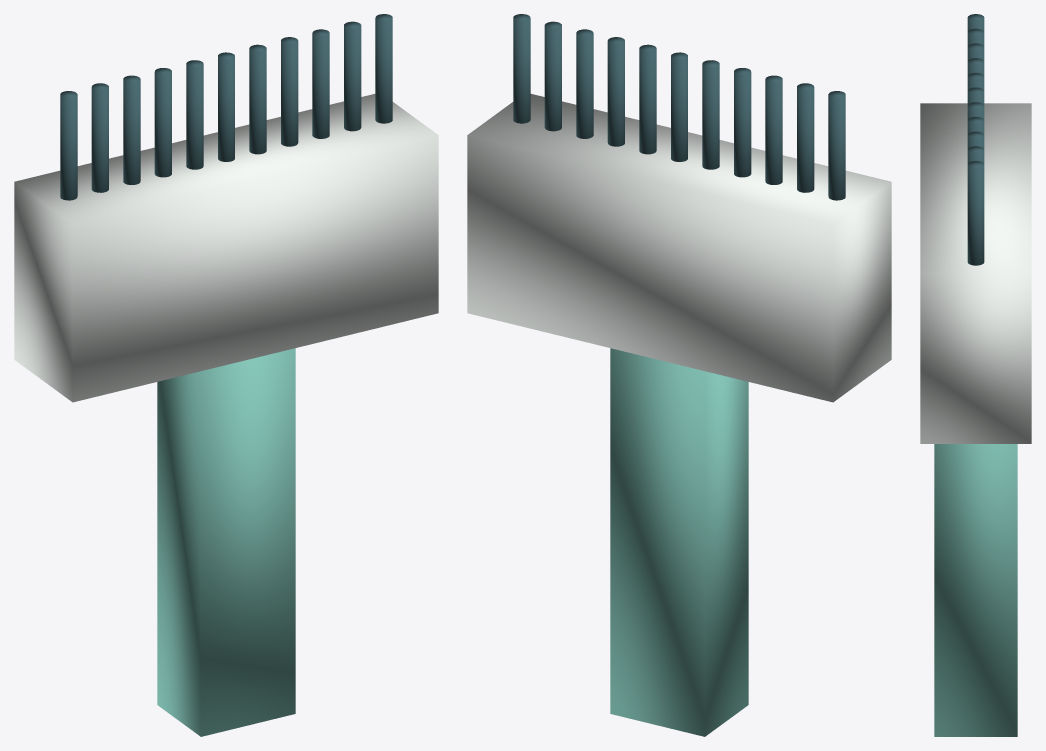
File: tool-brush.glb
3 views of the same model, side by side, from view 1: azimuth 30°, elevation 25°; view 2: azimuth 150°, elevation 25°; view 3: azimuth 270°, elevation 25° (orthographic). The views are drawn at different scales.
Parts seen in each view (by area): view 1: head.001, handle.001, tooth or bristle.017, tooth or bristle.011, tooth or bristle.018, tooth or bristle.020, tooth or bristle.012, tooth or bristle.013, tooth or bristle.021, tooth or bristle.015, tooth or bristle.019, tooth or bristle.014 (+1 smaller); view 2: head.001, handle.001, tooth or bristle.017, tooth or bristle.011, tooth or bristle.018, tooth or bristle.020, tooth or bristle.012, tooth or bristle.013, tooth or bristle.021, tooth or bristle.015, tooth or bristle.019, tooth or bristle.014 (+1 smaller); view 3: head.001, handle.001, tooth or bristle.021, tooth or bristle.012, tooth or bristle.013, tooth or bristle.016, tooth or bristle.019, tooth or bristle.015, tooth or bristle.017, tooth or bristle.014, tooth or bristle.018, tooth or bristle.020 (+1 smaller).
Boxes of the visible parts, x1,y1,x2,y2 form: head.001: (14, 94, 438, 402); handle.001: (157, 348, 295, 736); tooth or bristle.017: (249, 44, 266, 154); tooth or bristle.011: (60, 91, 77, 200); tooth or bristle.018: (281, 37, 298, 146); tooth or bristle.020: (344, 21, 361, 131); tooth or bristle.012: (91, 83, 108, 192); tooth or bristle.013: (123, 75, 140, 184); tooth or bristle.021: (375, 14, 392, 123); tooth or bristle.015: (186, 60, 203, 169); tooth or bristle.019: (312, 29, 329, 138); tooth or bristle.014: (154, 68, 171, 177); head.001: (467, 94, 891, 402); handle.001: (610, 348, 748, 736); tooth or bristle.017: (639, 44, 656, 154); tooth or bristle.011: (828, 91, 845, 200); tooth or bristle.018: (607, 37, 624, 146); tooth or bristle.020: (544, 21, 561, 131); tooth or bristle.012: (797, 83, 814, 192); tooth or bristle.013: (765, 75, 782, 184); tooth or bristle.021: (513, 14, 530, 123); tooth or bristle.015: (702, 60, 719, 169); tooth or bristle.019: (576, 29, 593, 138); tooth or bristle.014: (734, 68, 751, 177); head.001: (920, 103, 1031, 443); handle.001: (934, 444, 1017, 736); tooth or bristle.021: (967, 161, 984, 265); tooth or bristle.012: (967, 28, 984, 46); tooth or bristle.013: (967, 43, 984, 60); tooth or bristle.016: (967, 87, 984, 104); tooth or bristle.019: (967, 131, 984, 148); tooth or bristle.015: (967, 72, 984, 90); tooth or bristle.017: (967, 102, 984, 119); tooth or bristle.014: (967, 58, 984, 75); tooth or bristle.018: (967, 117, 984, 134); tooth or bristle.020: (967, 146, 984, 163).
Bounding box in the file's own units: 0.58 × 0.99 × 0.16.
